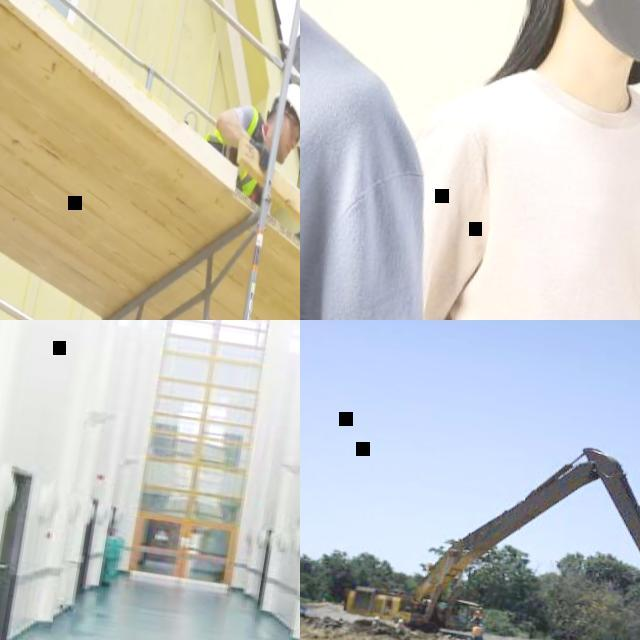helmet: (266, 80, 300, 149), (478, 624, 484, 628), (478, 608, 484, 610)
vest: (196, 99, 269, 198), (475, 610, 486, 620), (472, 627, 483, 637)
